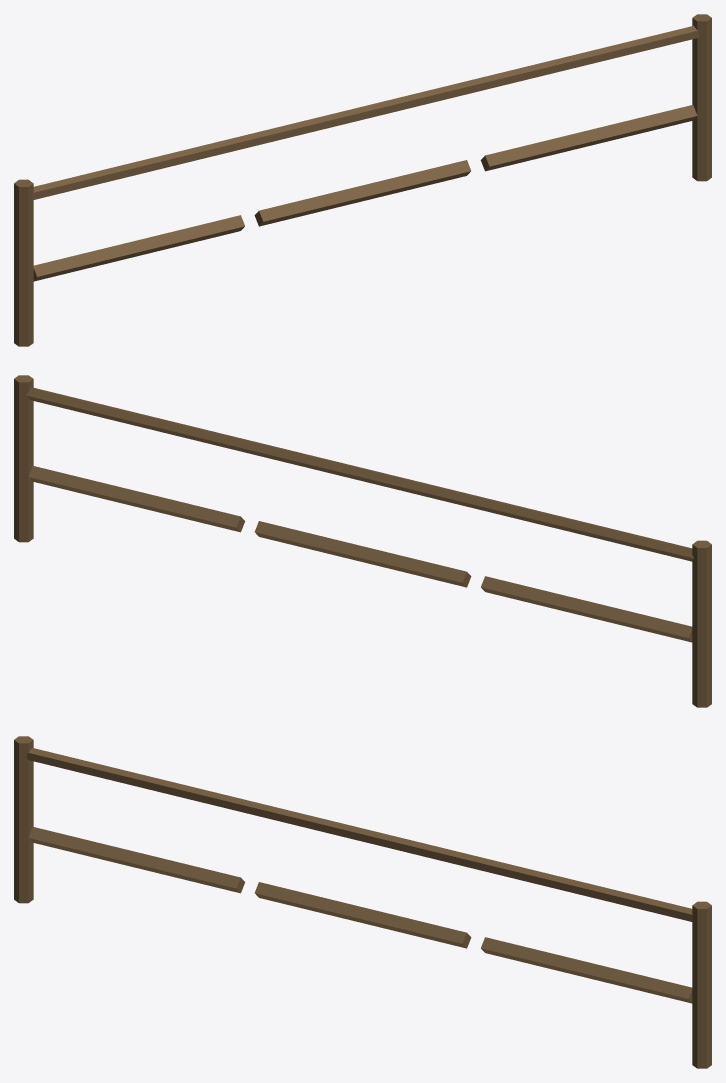
The model's file is K_Railing.glb.
The picture shows the model from 3 angles, top to bottom: view 1: azimuth 30°, elevation 25°; view 2: azimuth 150°, elevation 25°; view 3: azimuth 330°, elevation 25°; orthographic projection.
Visible parts, largest first — view 1: K_Railing; view 2: K_Railing; view 3: K_Railing.
Boxes of the visible parts, x1,y1,x2,y2 form: K_Railing: (14,14,711,346); K_Railing: (14,375,711,707); K_Railing: (14,736,711,1068).
Bounding box in the file's own units: 4.09 × 0.9 × 0.1.
